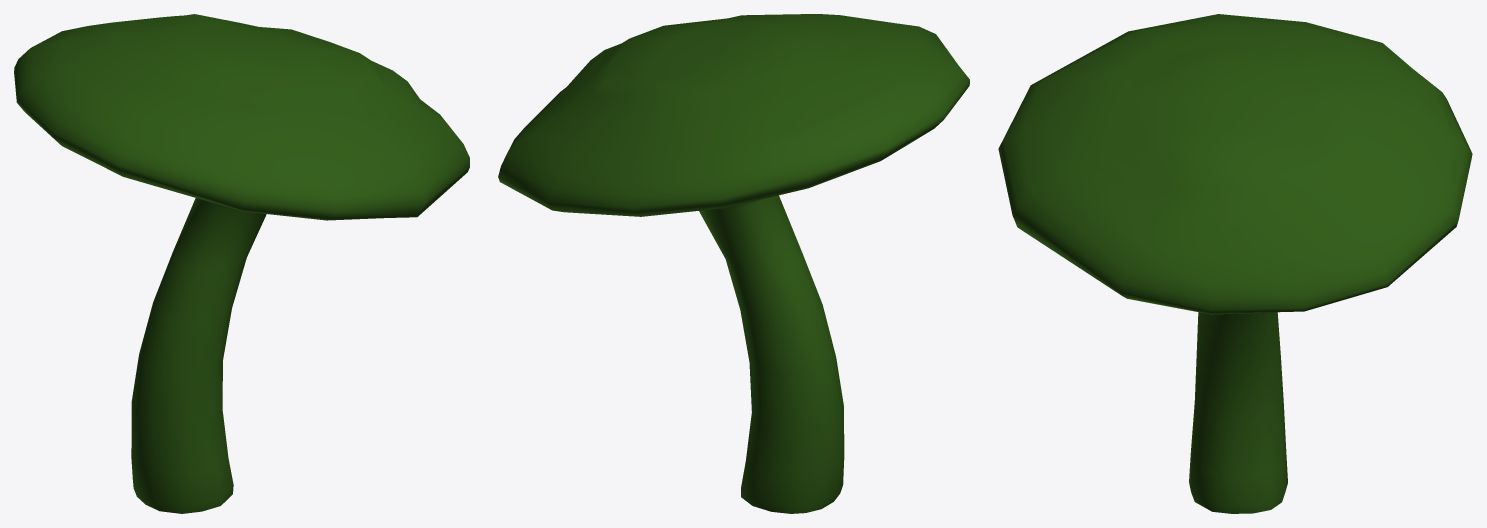
Rendered from Mshrm1.fbx.
The picture shows the model from 3 angles, left to right: view 1: azimuth 30°, elevation 25°; view 2: azimuth 150°, elevation 25°; view 3: azimuth 270°, elevation 25°; orthographic projection.
Parts seen in each view (by area): view 1: MSHRM.001; view 2: MSHRM.001; view 3: MSHRM.001.
Part boxes in pixels (x1,y1,x2,y2): MSHRM.001: [14, 14, 469, 513]; MSHRM.001: [498, 14, 969, 513]; MSHRM.001: [998, 14, 1472, 513].
Size of the model in its own units: 524 by 565 by 550.
